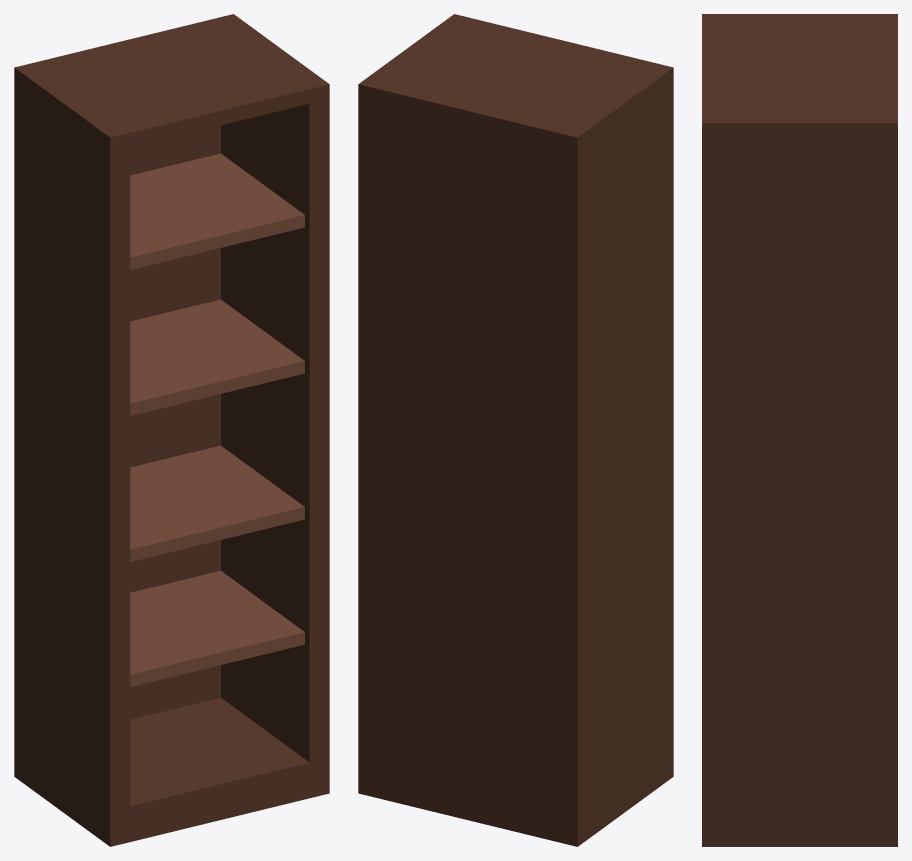
Rendered from Shelves_2B.fbx.
3 renders of one model, left to right at view 1: azimuth 30°, elevation 25°; view 2: azimuth 150°, elevation 25°; view 3: azimuth 270°, elevation 25°, orthographic. The views are drawn at different scales.
Parts seen in each view (by area): view 1: polySurface1682; view 2: polySurface1682; view 3: polySurface1682.
Boxes of the visible parts, x1,y1,x2,y2 form: polySurface1682: (14, 14, 329, 846); polySurface1682: (358, 14, 673, 846); polySurface1682: (702, 14, 897, 846).
Bounding box in the file's own units: 1.1 × 3.4 × 0.8338.
Materials: 1 (1 with a texture image).
